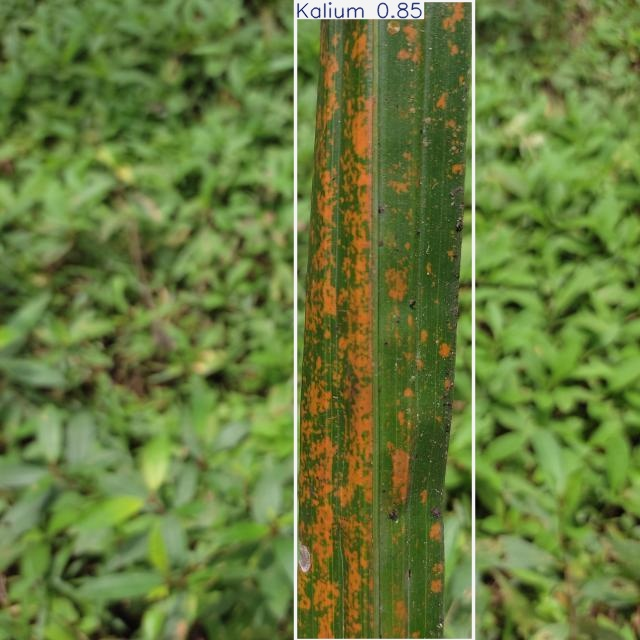Kalium: (296, 0, 474, 640)
